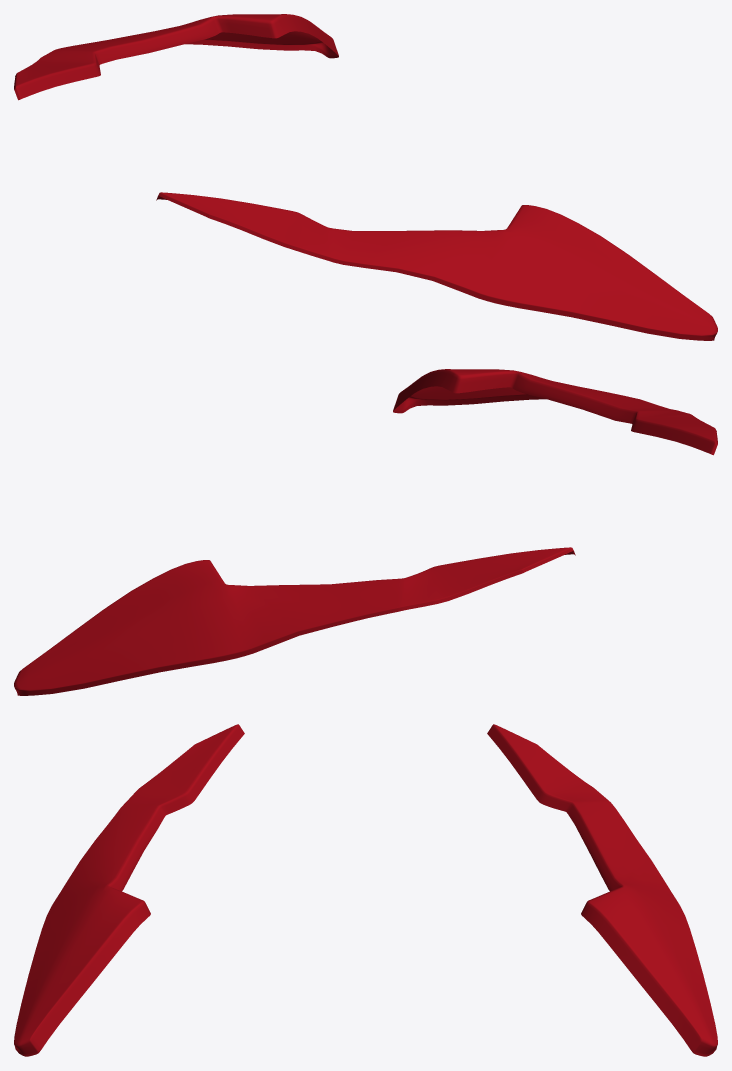
The model's file is Extreme Back Fins.fbx.
3 views of the same model, one above another, from view 1: azimuth 30°, elevation 25°; view 2: azimuth 150°, elevation 25°; view 3: azimuth 270°, elevation 25° (orthographic). The views are drawn at different scales.
Parts seen in each view (by area): view 1: Body_Frame.002, Body_Frame.001; view 2: Body_Frame.001, Body_Frame.002; view 3: Body_Frame.001, Body_Frame.002.
Boxes of the visible parts, x1=… form: Body_Frame.002: x1=156, y1=192, x2=717, y2=340; Body_Frame.001: x1=14, y1=14, x2=338, y2=100; Body_Frame.001: x1=14, y1=547, x2=575, y2=695; Body_Frame.002: x1=393, y1=369, x2=717, y2=455; Body_Frame.001: x1=487, y1=724, x2=717, y2=1056; Body_Frame.002: x1=14, y1=724, x2=244, y2=1056.
Bounding box in the file's own units: 23.37 × 8.41 × 36.78.
